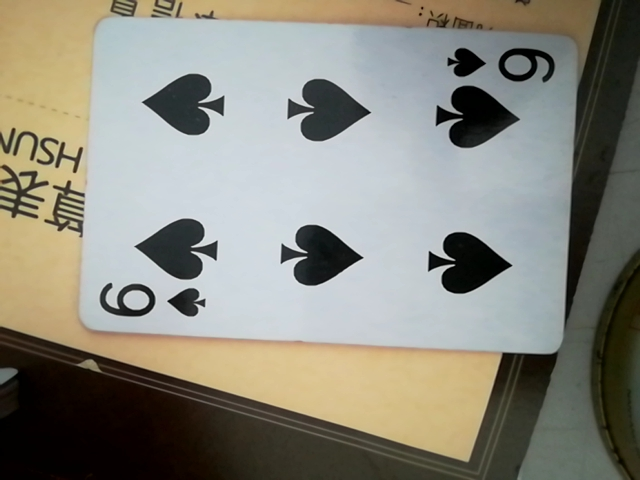ht 6: (70, 15, 582, 367)
